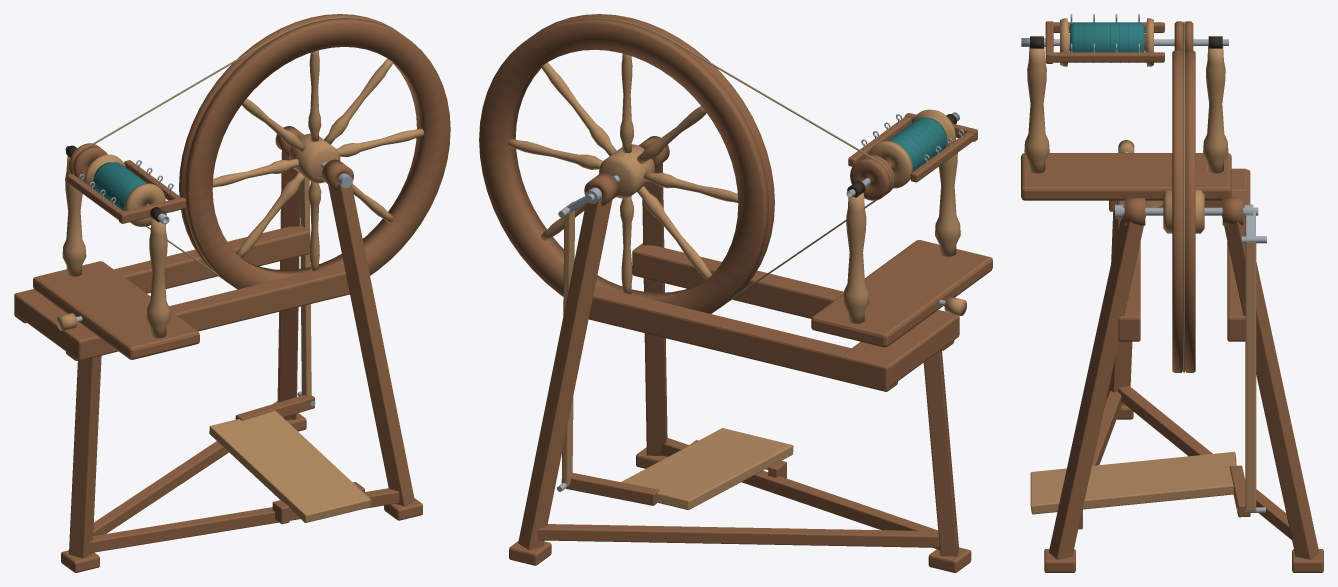
3 renders of one model, left to right at view 1: azimuth 30°, elevation 25°; view 2: azimuth 150°, elevation 25°; view 3: azimuth 270°, elevation 25°, orthographic. The views are drawn at different scales.
Visible parts, largest first — view 1: Large grooved drive wheel rim, Single rounded treadle footboard, Flyer mother-of-all platform, Splayed stand leg 1, Open table longitudinal rail -1, Splayed stand leg 0, Open table longitudinal rail 1, Front floor treadle crossbar, Splayed stand leg 2, Left table cross member, Rear diagonal lower stretcher, Turned flyer maiden -0.255 (+20 smaller); view 2: Large grooved drive wheel rim, Open table longitudinal rail 1, Flyer mother-of-all platform, Splayed stand leg 2, Single rounded treadle footboard, Rear diagonal lower stretcher, Open table longitudinal rail -1, Splayed stand leg 0, Splayed stand leg 1, Front floor treadle crossbar, Left table cross member, Turned flyer maiden 0.055 (+20 smaller); view 3: Splayed stand leg 1, Flyer mother-of-all platform, Single rounded treadle footboard, Splayed stand leg 2, Large grooved drive wheel rim, Treadle wooden connecting rod, Rear diagonal lower stretcher, Turned flyer maiden -0.255, Turned flyer maiden 0.055, Teal yarn winding, Open table longitudinal rail 1, Open table longitudinal rail -1 (+15 smaller).
Boxes of the visible parts, box(x1,y1,x2,y2) form: Large grooved drive wheel rim: box(179, 14, 450, 289); Single rounded treadle footboard: box(209, 410, 370, 522); Flyer mother-of-all platform: box(33, 261, 199, 359); Splayed stand leg 1: box(328, 183, 414, 506); Open table longitudinal rail -1: box(66, 263, 349, 360); Splayed stand leg 0: box(69, 355, 101, 558); Open table longitudinal rail 1: box(14, 224, 309, 323); Front floor treadle crossbar: box(89, 488, 399, 552); Splayed stand leg 2: box(277, 151, 300, 419); Left table cross member: box(14, 289, 118, 360); Rear diagonal lower stretcher: box(93, 401, 278, 535); Turned flyer maiden -0.255: box(146, 218, 170, 338); Large grooved drive wheel rim: box(479, 14, 774, 313); Open table longitudinal rail 1: box(588, 286, 897, 391); Flyer mother-of-all platform: box(811, 240, 992, 347); Splayed stand leg 2: box(518, 198, 612, 549); Single rounded treadle footboard: box(621, 428, 793, 509); Rear diagonal lower stretcher: box(537, 524, 939, 547); Open table longitudinal rail -1: box(632, 243, 954, 350); Splayed stand leg 0: box(923, 350, 959, 556); Splayed stand leg 1: box(642, 163, 667, 455); Front floor treadle crossbar: box(659, 438, 939, 549); Left table cross member: box(843, 310, 959, 387); Turned flyer maiden 0.055: box(843, 192, 869, 323); Splayed stand leg 1: box(1049, 206, 1146, 559); Flyer mother-of-all platform: box(1021, 153, 1231, 200); Single rounded treadle footboard: box(1030, 452, 1236, 514); Splayed stand leg 2: box(1221, 206, 1319, 559); Large grooved drive wheel rim: box(1172, 50, 1195, 372); Treadle wooden connecting rod: box(1245, 242, 1256, 511); Rear diagonal lower stretcher: box(1118, 386, 1291, 539); Turned flyer maiden -0.255: box(1024, 47, 1049, 173); Turned flyer maiden 0.055: box(1203, 46, 1228, 173); Teal yarn winding: box(1070, 22, 1144, 52); Open table longitudinal rail 1: box(1227, 169, 1250, 341); Open table longitudinal rail -1: box(1117, 200, 1140, 341).
Size of the model in its own units: 0.879 by 0.93 by 0.525.
